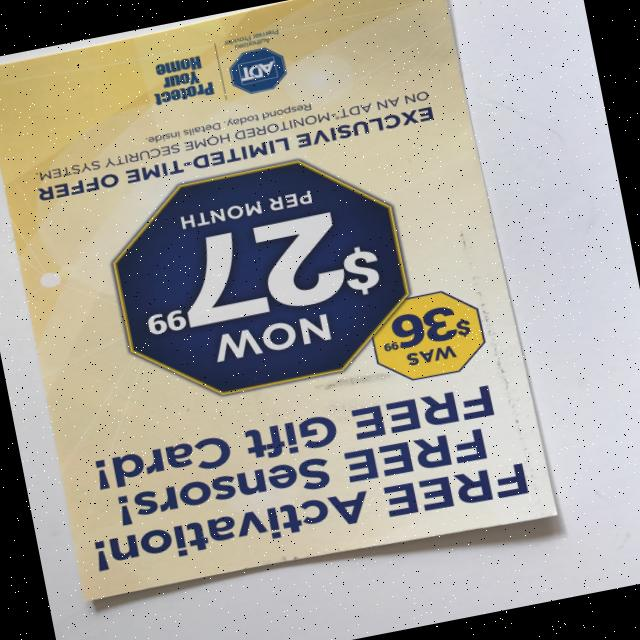paper: (0, 0, 557, 607)
